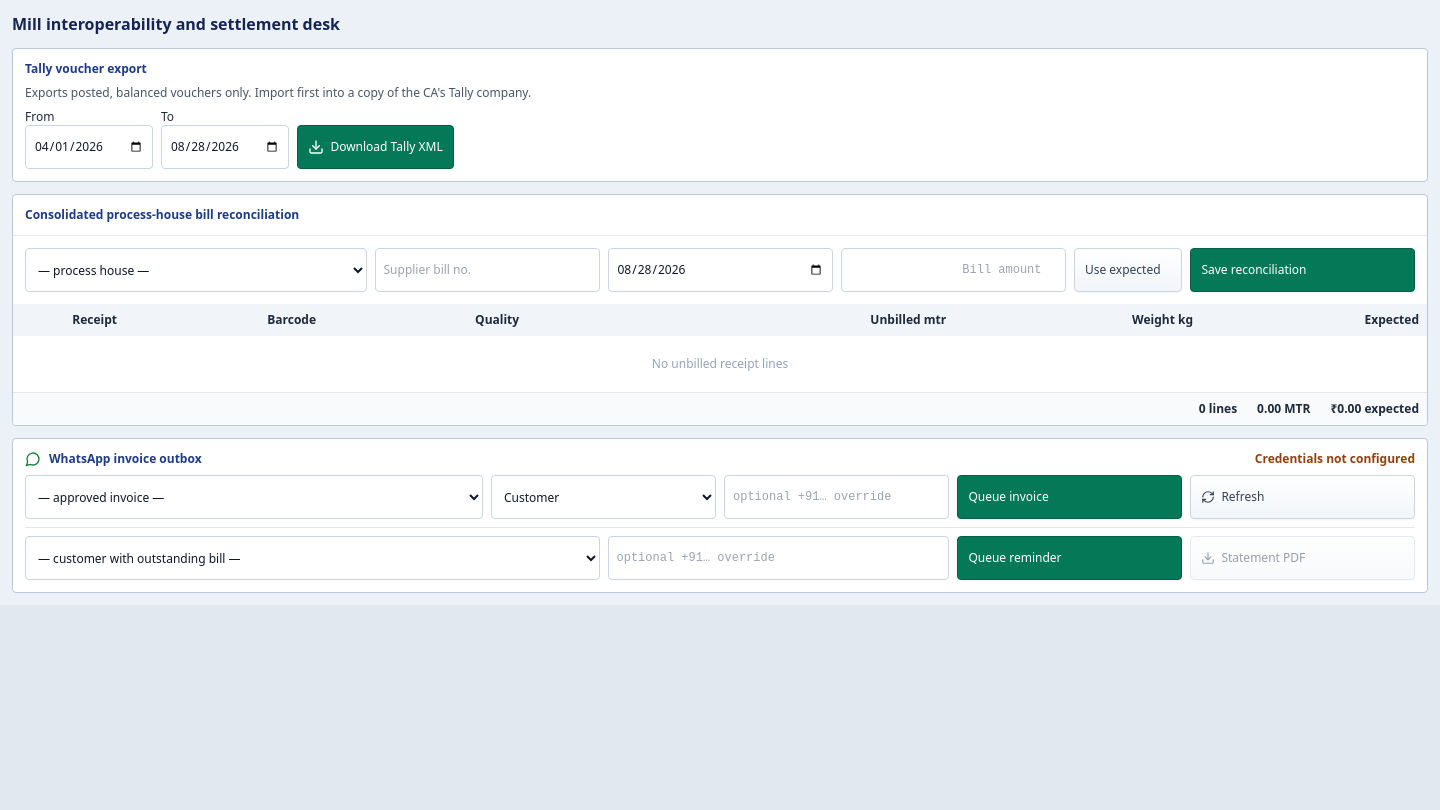
Test: MillIntegrationView messaging desk › queues an outstanding-statement reminder for the selected customer
Select "Supreme Textiles · ₹10,500.00 due · ₹10,500.00 overdue" in the dropdown named "Customer for payment reminder" at (312, 558), box top-left (25, 536), bottom-right (600, 580)
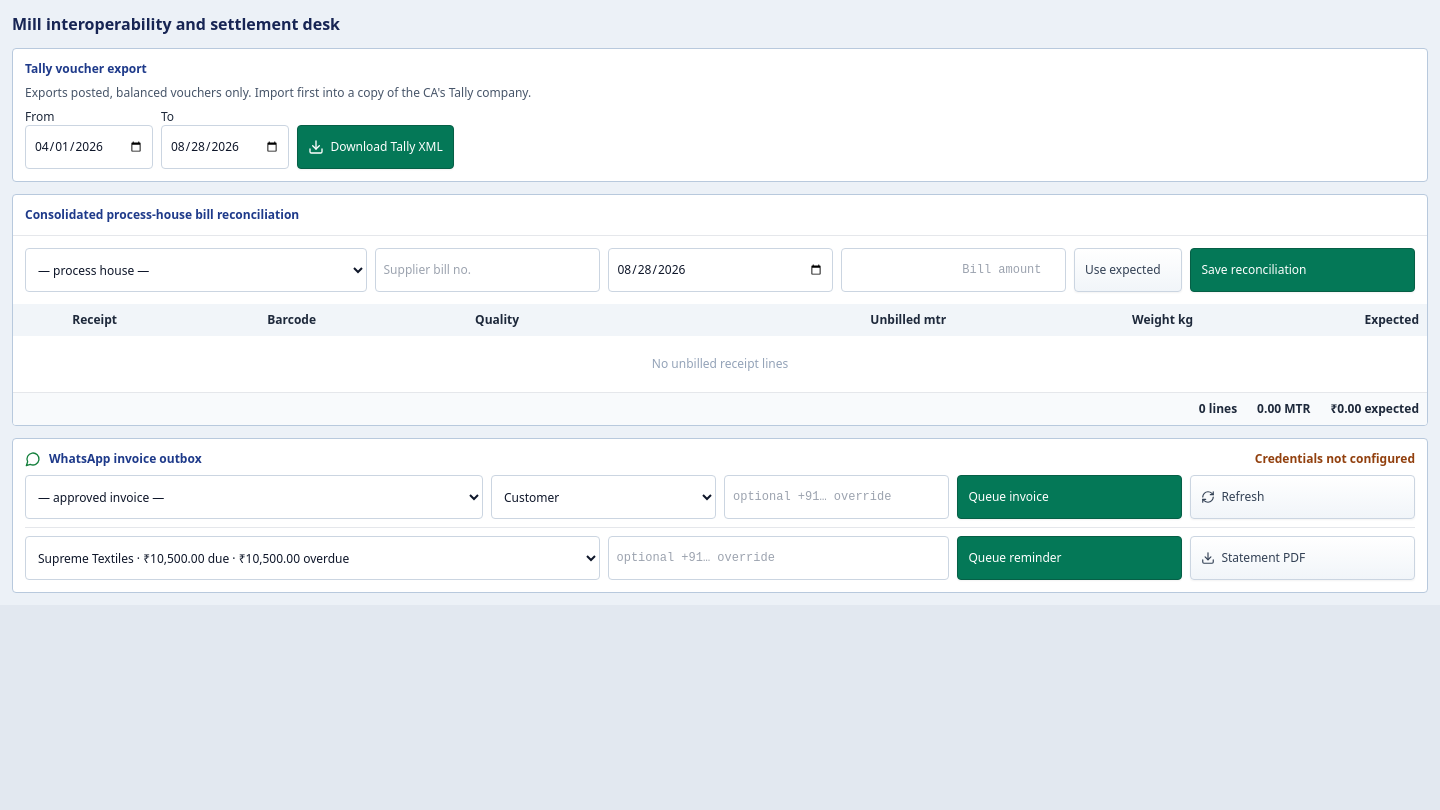
Click the button "Queue reminder" at (1070, 558), box top-left (957, 536), bottom-right (1182, 580)
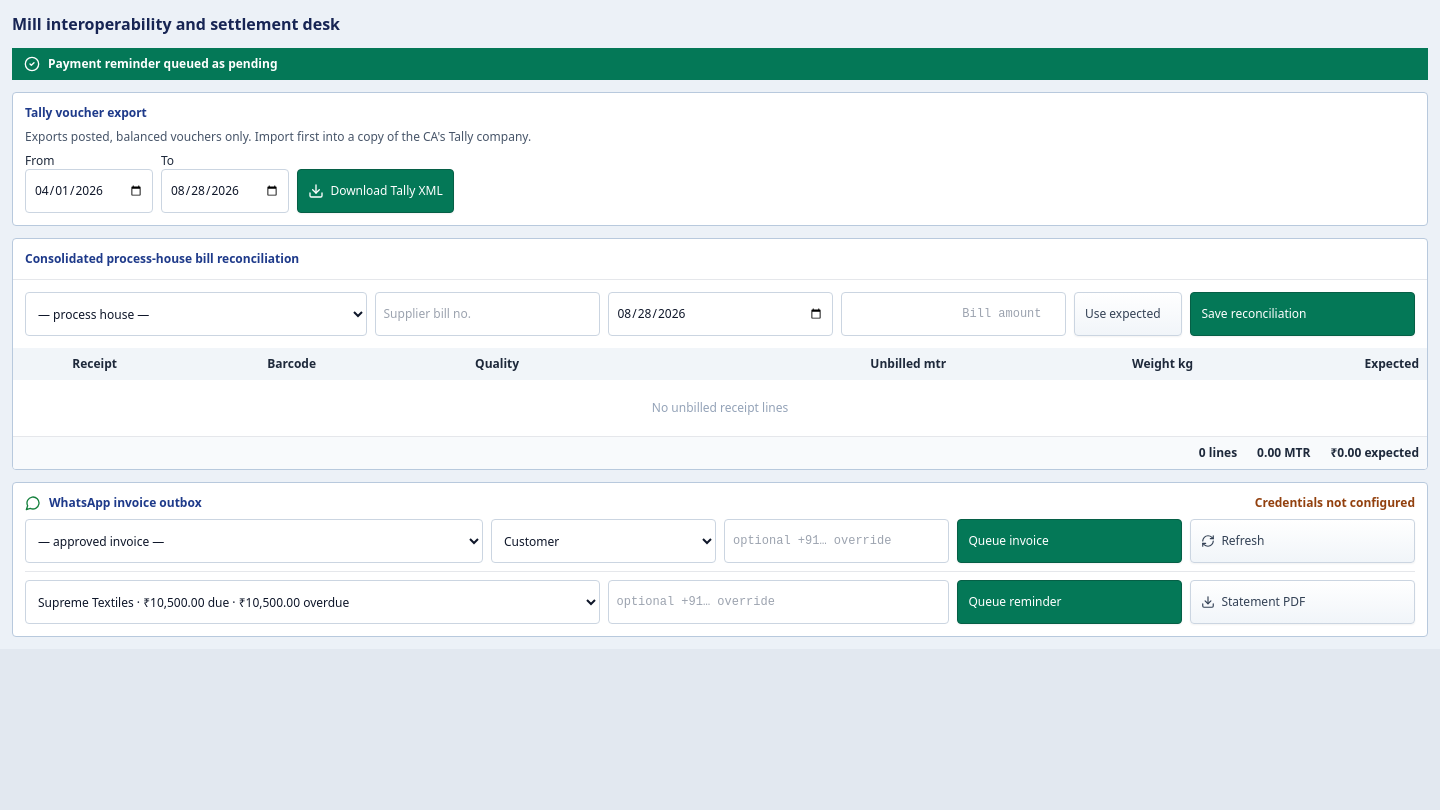
Expected: the text "Payment reminder queued as pending" is shown, top-left (12, 48), bottom-right (1428, 80)
